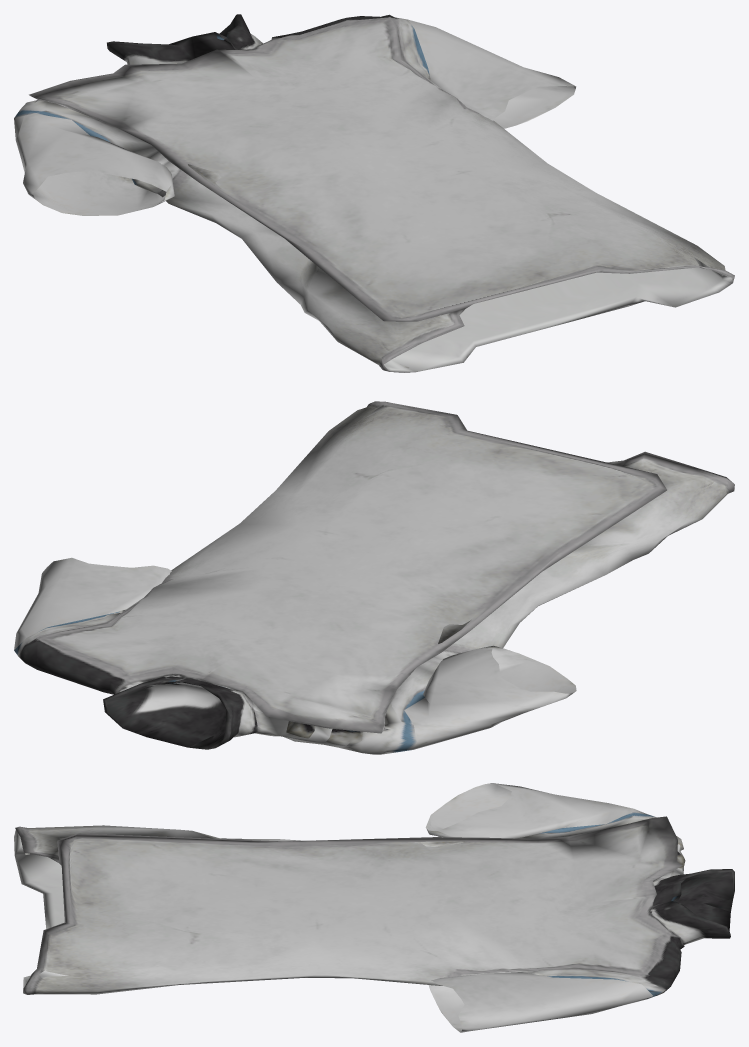
Rendered from DentistShirt_Ground.fbx.
3 views of the same model, one above another, from view 1: azimuth 30°, elevation 25°; view 2: azimuth 150°, elevation 25°; view 3: azimuth 270°, elevation 25° (orthographic). The views are drawn at different scales.
Visible parts, largest first — view 1: DentistShirt; view 2: DentistShirt; view 3: DentistShirt.
Boxes of the visible parts, <box> form: DentistShirt: <box>14,14,734,372</box>; DentistShirt: <box>14,401,734,754</box>; DentistShirt: <box>14,783,734,1032</box>.
Size of the model in its own units: 0.3588 by 0.0302 by 0.459.
